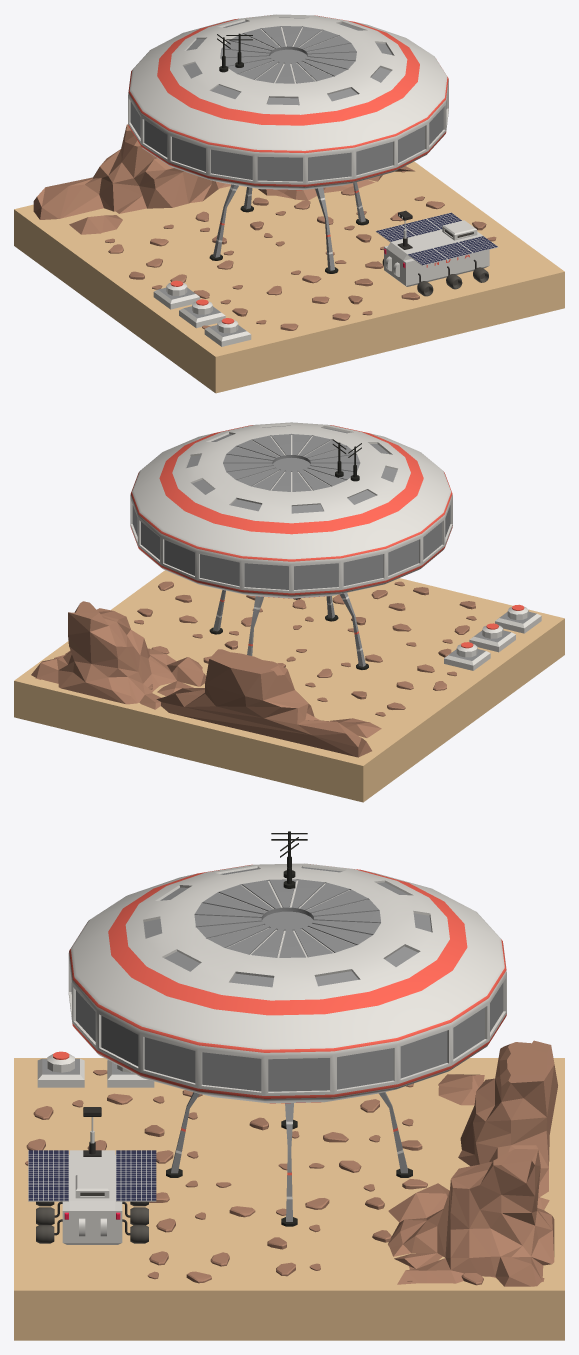
File: 00 Space_18.FBX
3 renders of one model, top to bottom at view 1: azimuth 30°, elevation 25°; view 2: azimuth 150°, elevation 25°; view 3: azimuth 270°, elevation 25°, orthographic. The views are drawn at different scales.
Visible parts, largest first — view 1: Box001, Cylinder001, Space_18, Box002, Box015, Box017, Mountain_desert_001, Box016; view 2: Box001, Cylinder001, Space_18, Mountain_desert_001, Box017, Box015, Box016; view 3: Box001, Cylinder001, Mountain_desert_001, Box002, Space_18, Box015, Box016.
Boxes of the visible parts, x1=… form: Box001: x1=14, y1=161, x2=564, y2=393; Cylinder001: x1=128, y1=14, x2=448, y2=273; Space_18: x1=33, y1=124, x2=231, y2=234; Box002: x1=375, y1=210, x2=498, y2=296; Box015: x1=204, y1=318, x2=251, y2=346; Box017: x1=153, y1=280, x2=200, y2=309; Mountain_desert_001: x1=258, y1=166, x2=415, y2=200; Box016: x1=179, y1=299, x2=225, y2=328; Box001: x1=14, y1=570, x2=564, y2=802; Cylinder001: x1=130, y1=422, x2=452, y2=669; Space_18: x1=156, y1=649, x2=381, y2=757; Mountain_desert_001: x1=31, y1=601, x2=206, y2=709; Box017: x1=444, y1=642, x2=490, y2=670; Box015: x1=495, y1=604, x2=541, y2=633; Box016: x1=469, y1=623, x2=515, y2=652; Box001: x1=14, y1=1058, x2=564, y2=1340; Cylinder001: x1=68, y1=831, x2=506, y2=1226; Mountain_desert_001: x1=388, y1=1149, x2=554, y2=1286; Box002: x1=28, y1=1107, x2=156, y2=1244; Space_18: x1=438, y1=1040, x2=557, y2=1197; Box015: x1=37, y1=1051, x2=84, y2=1087; Box016: x1=107, y1=1060, x2=154, y2=1087.
Size of the model in its own units: 10000 by 6983 by 10000.
